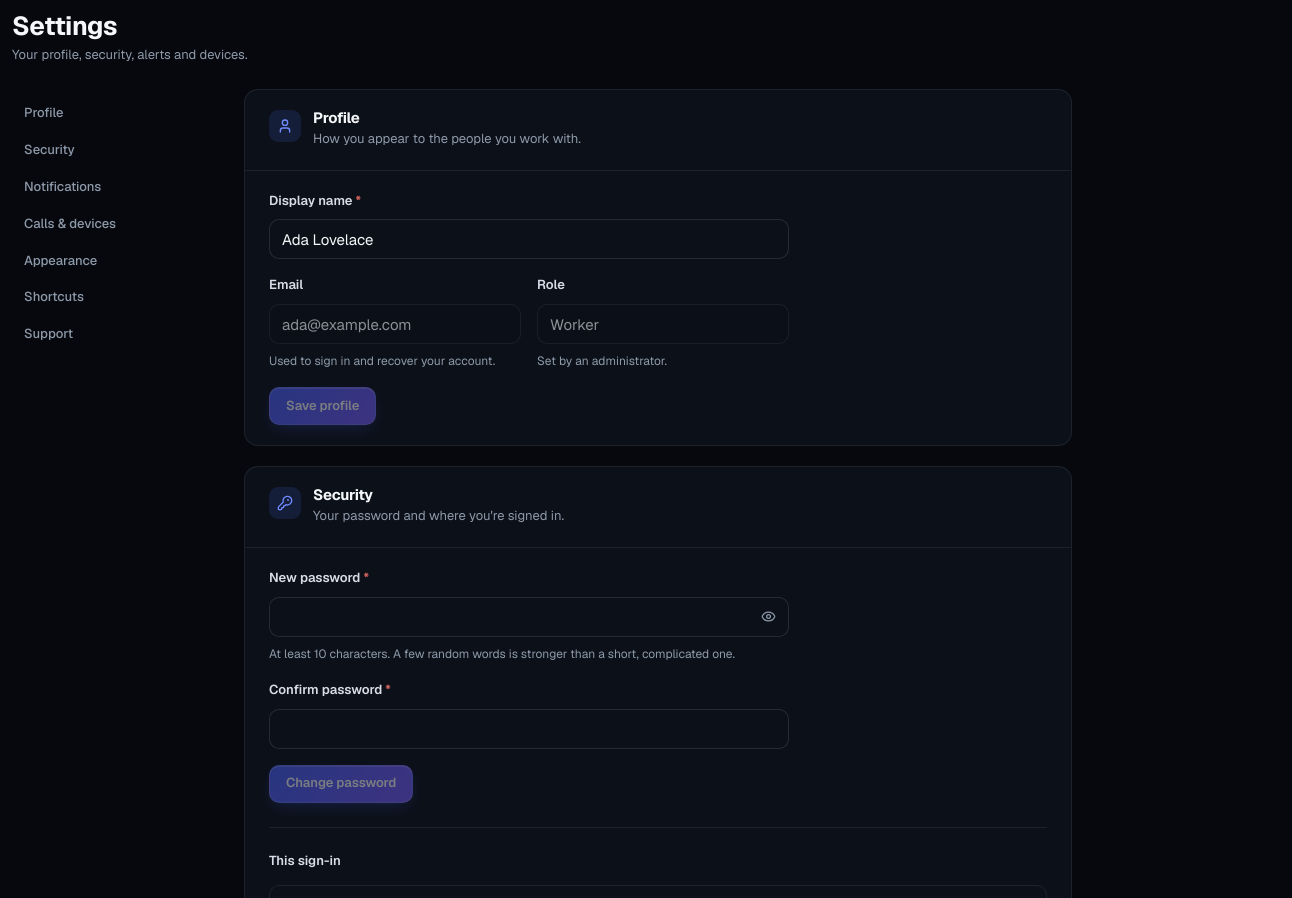
Settings › profile › saving is disabled until the name actually changes
Check: the button "Save profile" is disabled, box [269,388,376,426]
Type " Byron" into the field labelled "Display name *" at coordinates (529, 240), box [269,220,789,260]
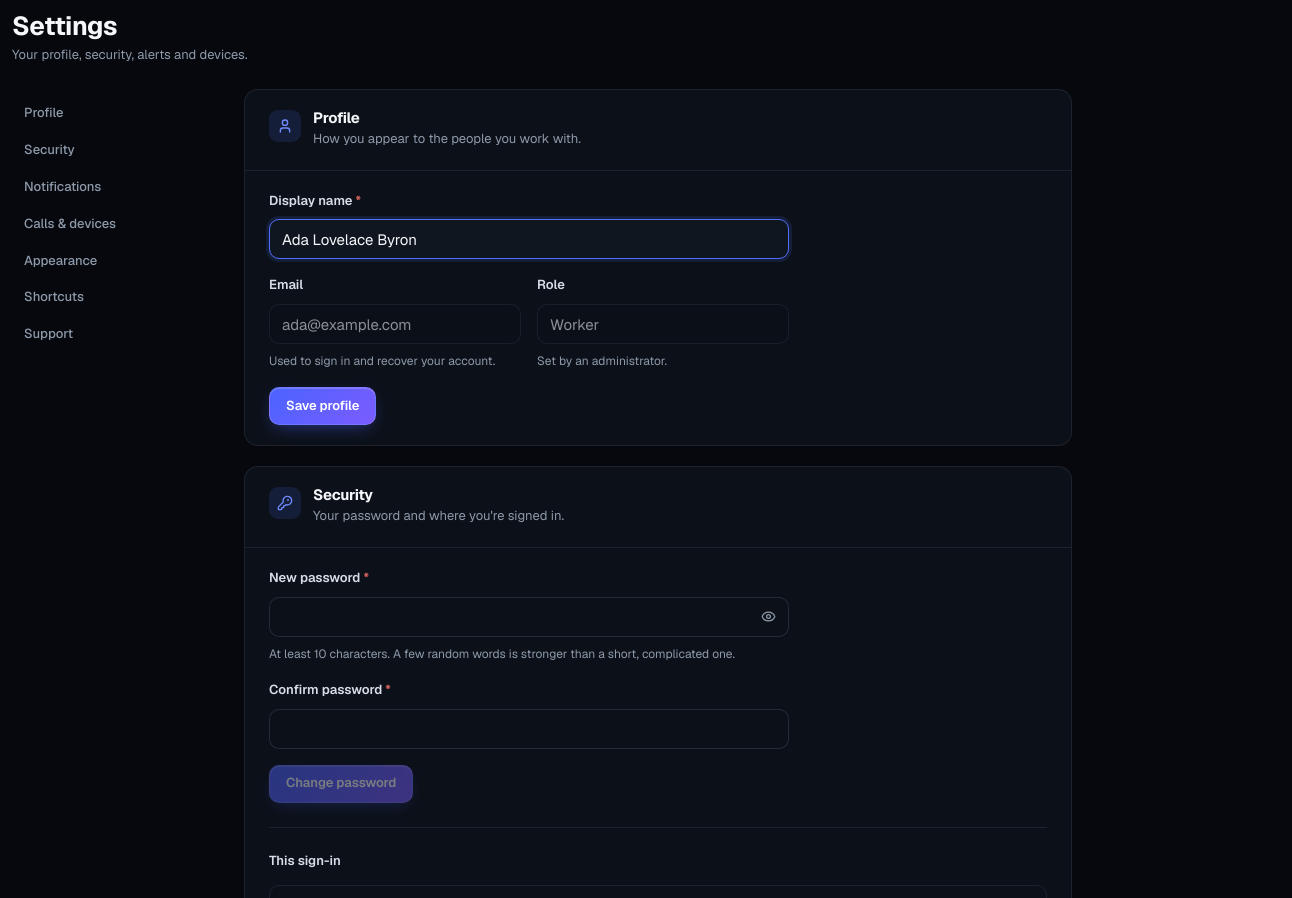
Check: the button "Save profile" is enabled, box [269,388,376,426]
